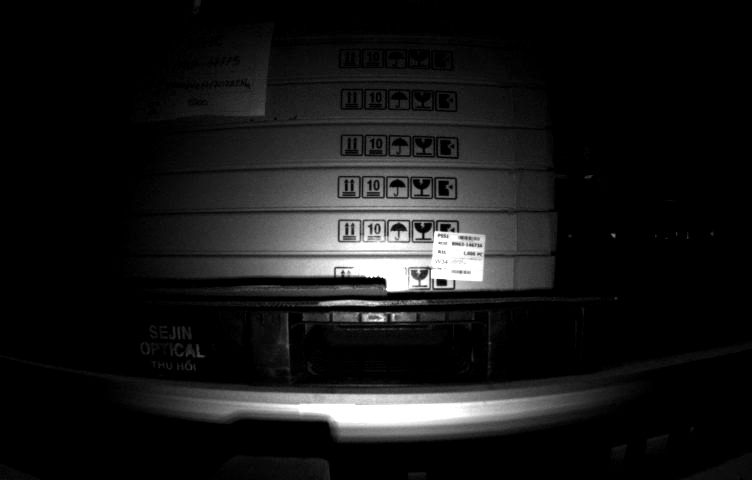True Barcode: (429, 229, 484, 286)
